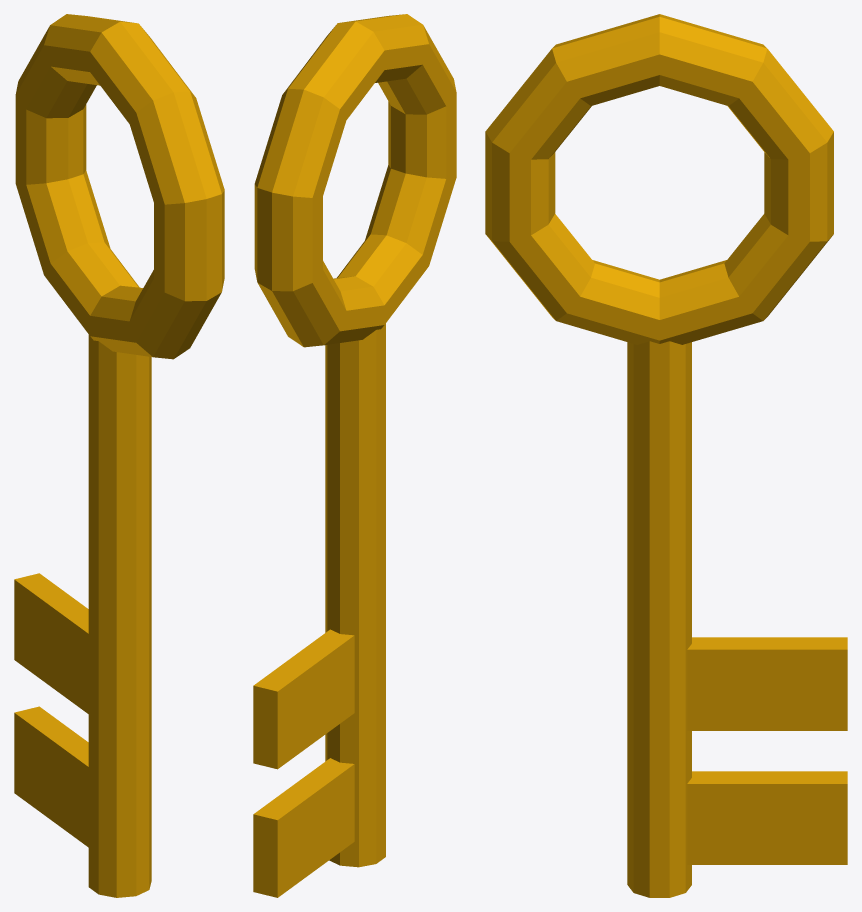
Rendered from key.glb.
The picture shows the model from 3 angles, left to right: view 1: azimuth 30°, elevation 25°; view 2: azimuth 150°, elevation 25°; view 3: azimuth 270°, elevation 25°; orthographic projection. The views are drawn at different scales.
Parts seen in each view (by area): view 1: Key; view 2: Key; view 3: Key.
Boxes of the visible parts, x1=… form: Key: x1=14, y1=14, x2=224, y2=897; Key: x1=253, y1=14, x2=456, y2=897; Key: x1=485, y1=14, x2=847, y2=897.
Size of the model in its own units: 0.1664 by 2.29 by 0.8645.
